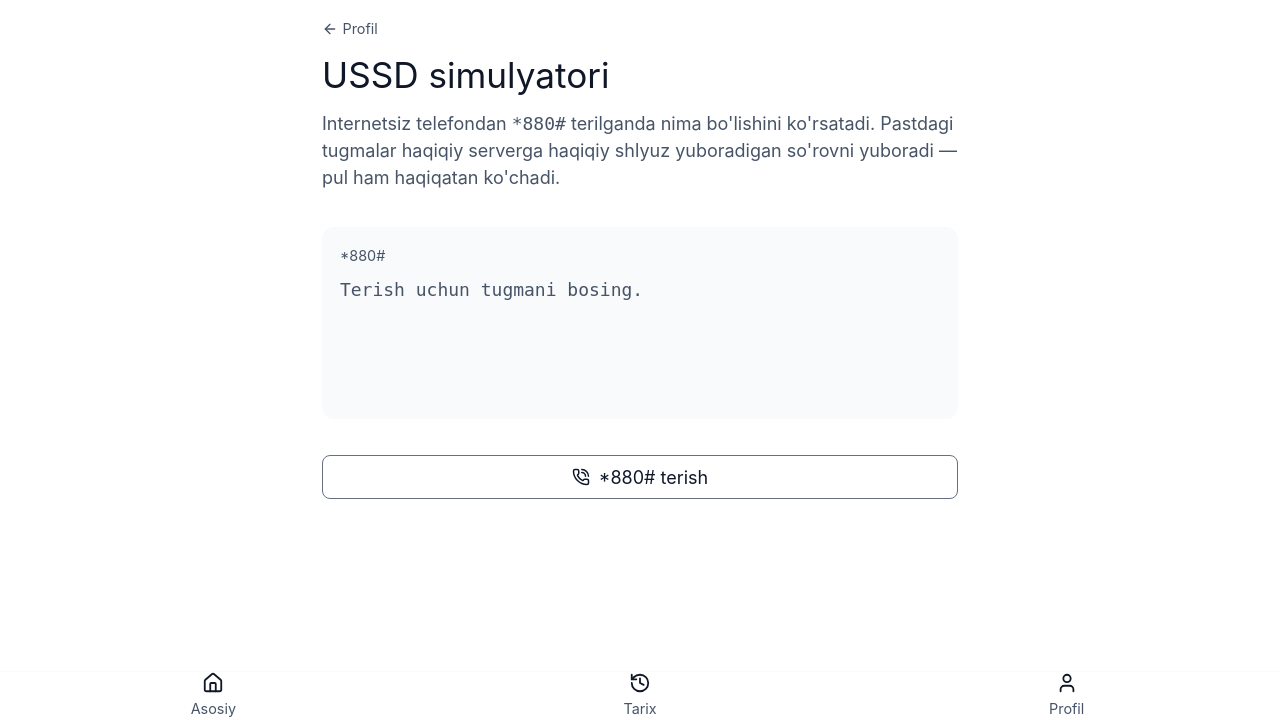
Test: what it refuses to show as a reply › names a transport failure as the gateway, not as an answer
Click the button "*880# terish".
click(640, 477)  # box [322,455,958,499]
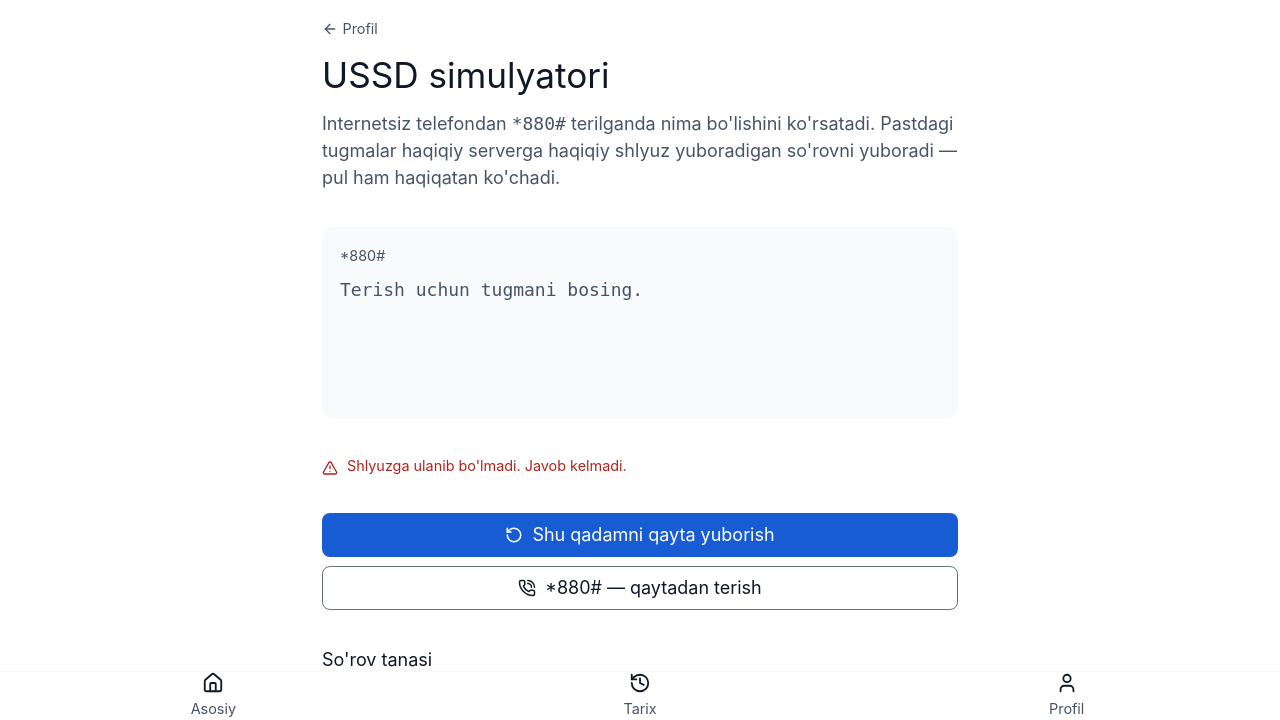
Result: the message "Shlyuzga ulanib bo'lmadi. Javob kelmadi." is shown at [322,457,627,476]
